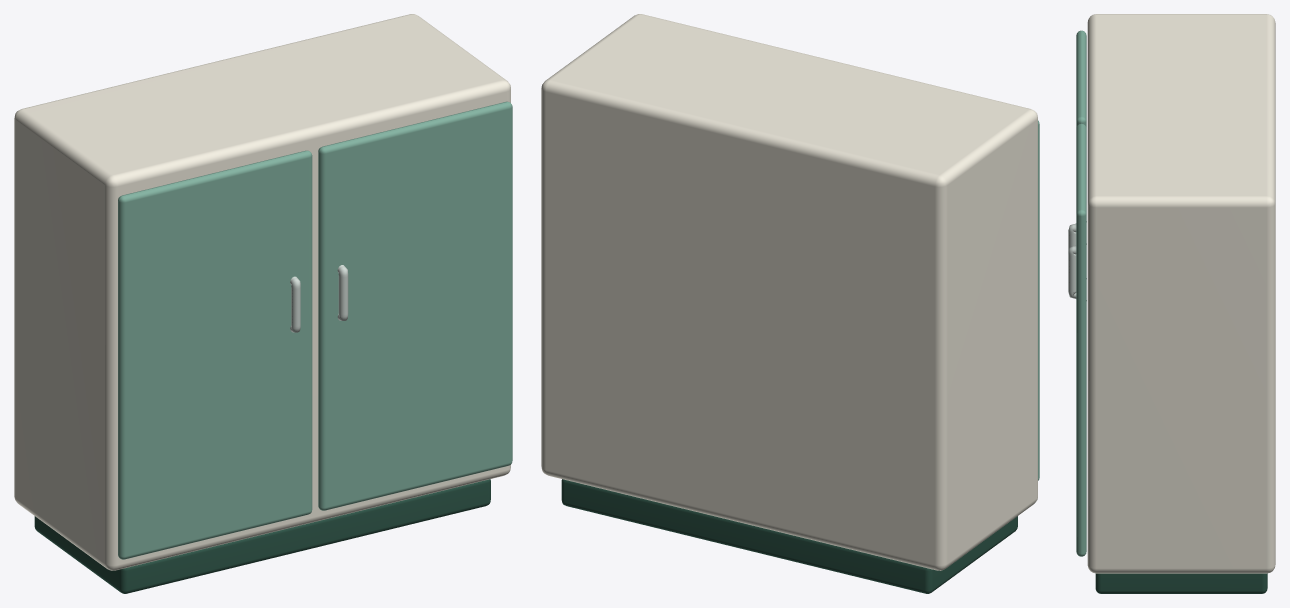
File: storage-cabinet.glb
The picture shows the model from 3 angles, left to right: view 1: azimuth 30°, elevation 25°; view 2: azimuth 150°, elevation 25°; view 3: azimuth 270°, elevation 25°; orthographic projection. The views are drawn at different scales.
Visible parts, largest first — view 1: storage-cabinet | material-batched geometry; view 2: storage-cabinet | material-batched geometry; view 3: storage-cabinet | material-batched geometry.
Part boxes in pixels (box(x1,y1,x2,y2)): storage-cabinet | material-batched geometry: box(14, 14, 512, 593); storage-cabinet | material-batched geometry: box(541, 14, 1039, 593); storage-cabinet | material-batched geometry: box(1068, 14, 1275, 593).
Bounding box in the file's own units: 1.4 × 1.4 × 0.65.
